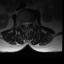CCS_normal: (25, 20, 27, 28)
LFS_stenosis: (29, 20, 32, 25)
LLS_normal: (27, 20, 30, 26)
RFS_normal: (21, 21, 23, 27)
RLS_normal: (23, 20, 25, 26)
